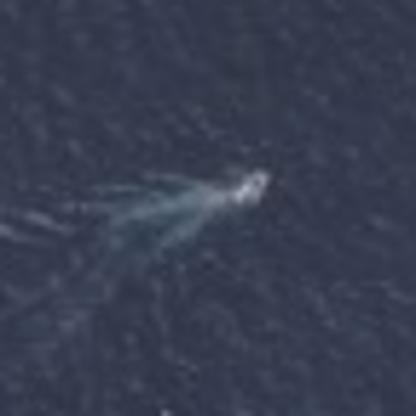ship: (216, 165, 281, 217)
